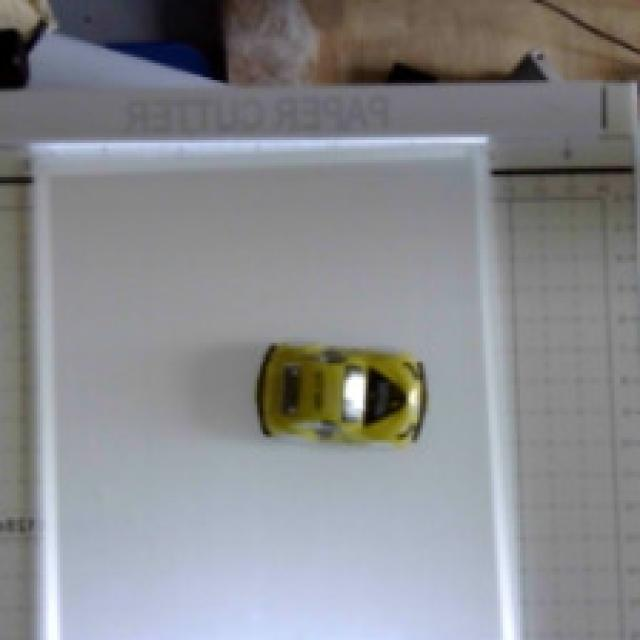Yellow Car: (212, 273, 470, 498)
